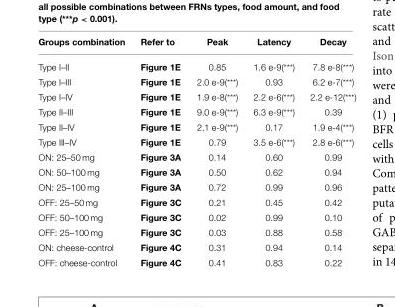table: (37, 37, 355, 267)
table column: (37, 37, 131, 267), (131, 37, 188, 267), (244, 37, 301, 267), (188, 37, 244, 267), (301, 37, 355, 267)
table column header: (37, 37, 355, 54)
table row: (37, 54, 355, 74), (37, 37, 355, 54), (37, 239, 355, 255), (37, 74, 355, 89), (37, 89, 355, 104), (37, 104, 355, 119), (37, 119, 355, 134), (37, 134, 355, 149), (37, 149, 355, 164), (37, 164, 355, 179), (37, 179, 355, 194), (37, 194, 355, 209), (37, 209, 355, 224), (37, 224, 355, 239), (37, 255, 355, 267)
